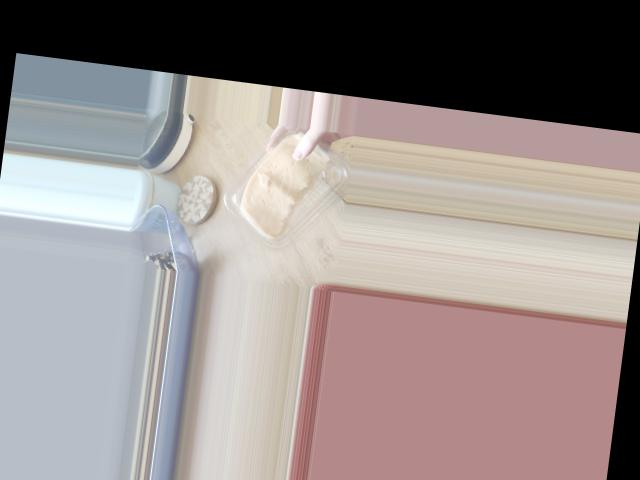cheese: (205, 127, 349, 271)
